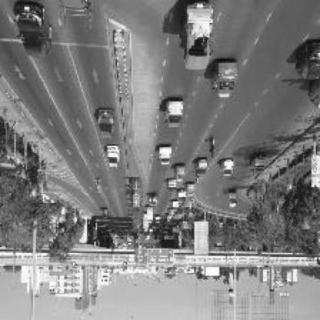other: (88, 105, 126, 141)
